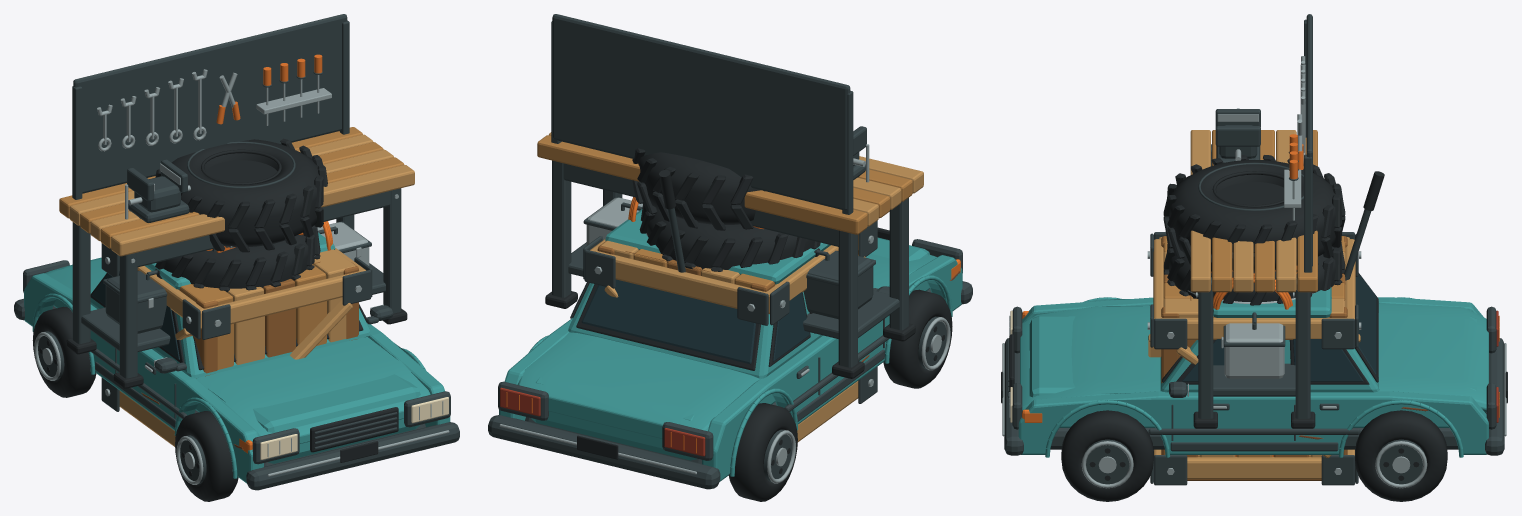
File: world-assets-v1.glb
3 views of the same model, side by side, from view 1: azimuth 30°, elevation 25°; view 2: azimuth 150°, elevation 25°; view 3: azimuth 270°, elevation 25° (orthographic). The views are drawn at different scales.
Visible parts, largest first — view 1: DRP_Workbench, DRP_Car, DRP_Crate, Stack_tyre_2, Stack_tyre_1, DRP_Cabinet; view 2: DRP_Car, DRP_Workbench, DRP_Crate, Stack_tyre_2, Stack_tyre_1, DRP_FloorJack; view 3: DRP_Car, DRP_Workbench, DRP_Crate, Stack_tyre_2, Stack_tyre_1, DRP_Cabinet, DRP_FloorJack.
Boxes of the visible parts, left/top/right/bottom form: DRP_Workbench: left=59, top=14, right=414, bottom=388; DRP_Car: left=14, top=232, right=459, bottom=501; DRP_Crate: left=101, top=243, right=372, bottom=446; Stack_tyre_2: left=155, top=138, right=327, bottom=252; Stack_tyre_1: left=155, top=225, right=320, bottom=292; DRP_Cabinet: left=205, top=160, right=303, bottom=252; DRP_Car: left=488, top=209, right=972, bottom=501; DRP_Workbench: left=537, top=14, right=923, bottom=378; DRP_Crate: left=583, top=220, right=877, bottom=442; Stack_tyre_2: left=632, top=148, right=764, bottom=230; Stack_tyre_1: left=639, top=203, right=820, bottom=271; DRP_FloorJack: left=659, top=170, right=685, bottom=272; DRP_Car: left=1001, top=273, right=1507, bottom=501; DRP_Workbench: left=1190, top=14, right=1317, bottom=428; DRP_Crate: left=1147, top=232, right=1361, bottom=485; Stack_tyre_2: left=1163, top=155, right=1345, bottom=271; Stack_tyre_1: left=1163, top=242, right=1345, bottom=305; DRP_Cabinet: left=1211, top=182, right=1297, bottom=273; DRP_FloorJack: left=1344, top=171, right=1384, bottom=280.
Size of the model in its own units: 3.05 by 3.51 by 4.38.
